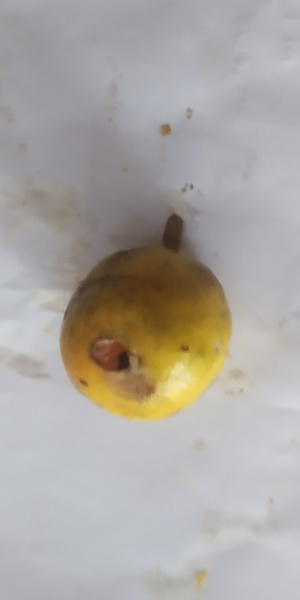BAD: (56, 246, 228, 419)
